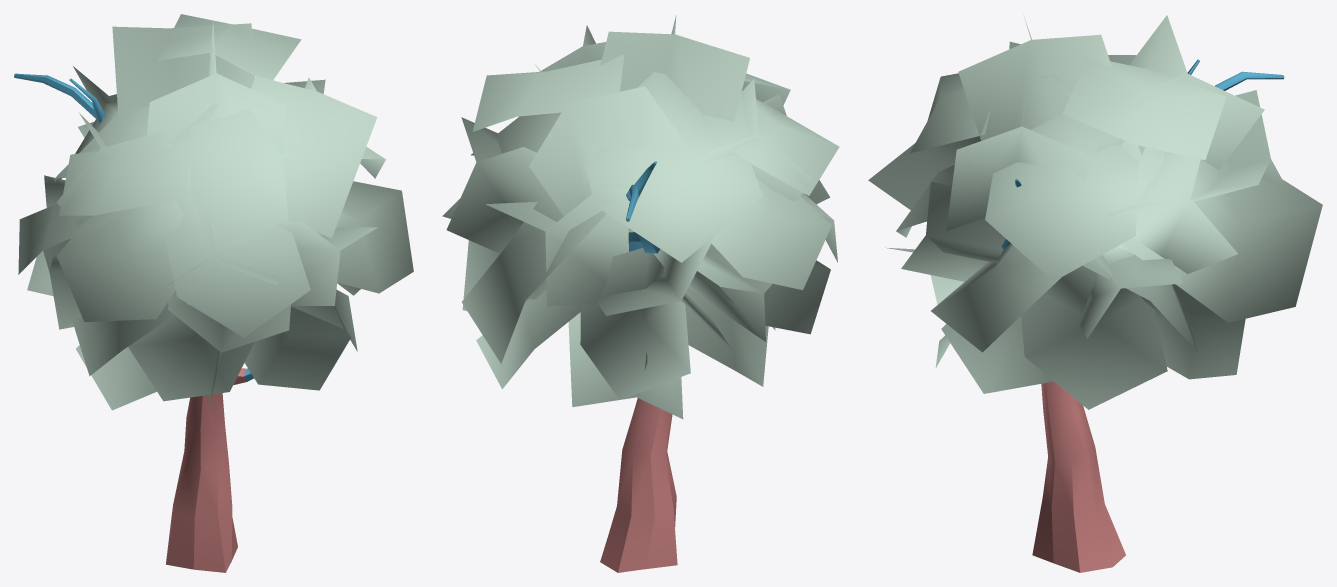
File: treeA_06.fbx
3 views of the same model, side by side, from view 1: azimuth 30°, elevation 25°; view 2: azimuth 150°, elevation 25°; view 3: azimuth 270°, elevation 25° (orthographic).
Parts seen in each view (by area): view 1: treeA_v6; view 2: treeA_v6; view 3: treeA_v6.
Boxes of the visible parts, left/top/right/bottom form: treeA_v6: left=14, top=14, right=413, bottom=572; treeA_v6: left=442, top=15, right=839, bottom=572; treeA_v6: left=868, top=15, right=1322, bottom=572.
Size of the model in its own units: 388 by 564 by 427.
